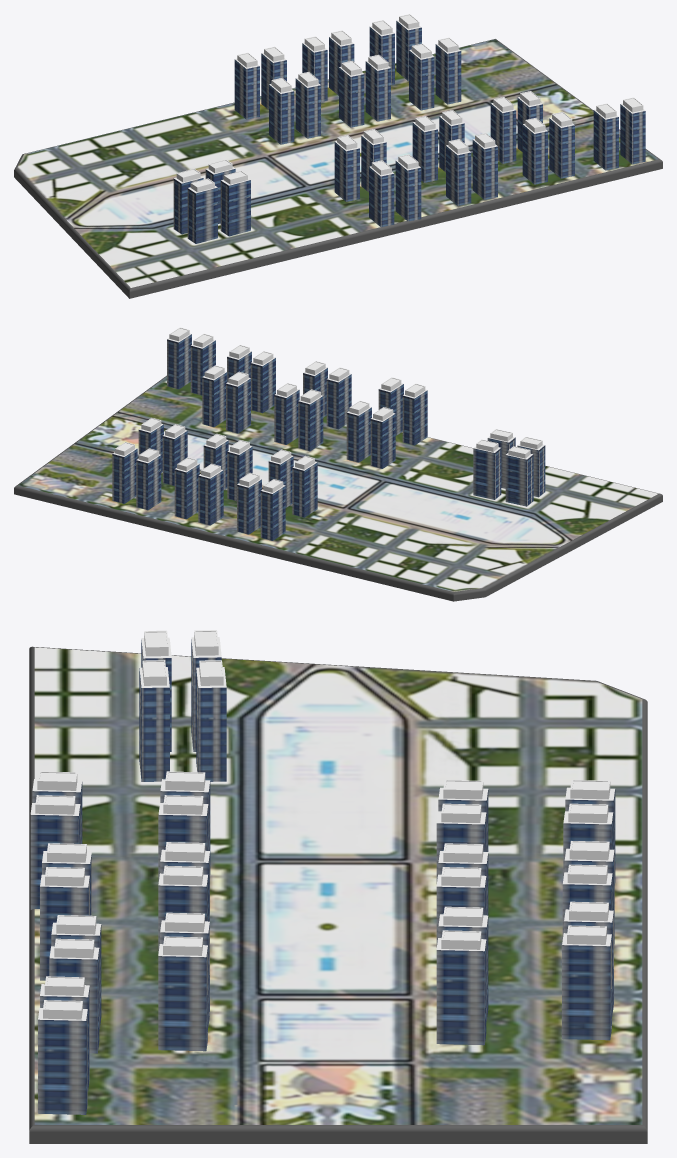
The model's file is gov.glb.
The picture shows the model from 3 angles, top to bottom: view 1: azimuth 30°, elevation 25°; view 2: azimuth 150°, elevation 25°; view 3: azimuth 270°, elevation 25°; orthographic projection. The views are drawn at different scales.
Size of the model in its own units: 5.21 by 0.603 by 2.82.
4 materials, 2 textured.
